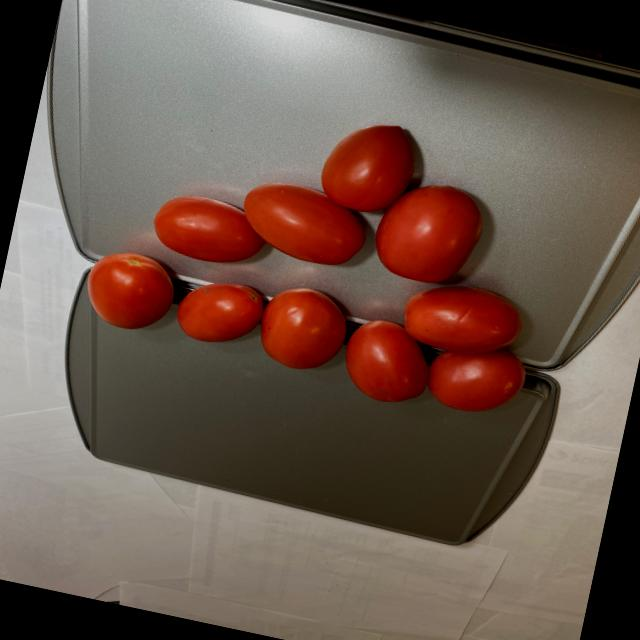tomato: (77, 62, 574, 431)
